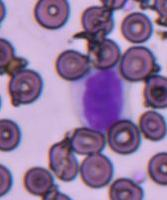L: (73, 66, 128, 133)
